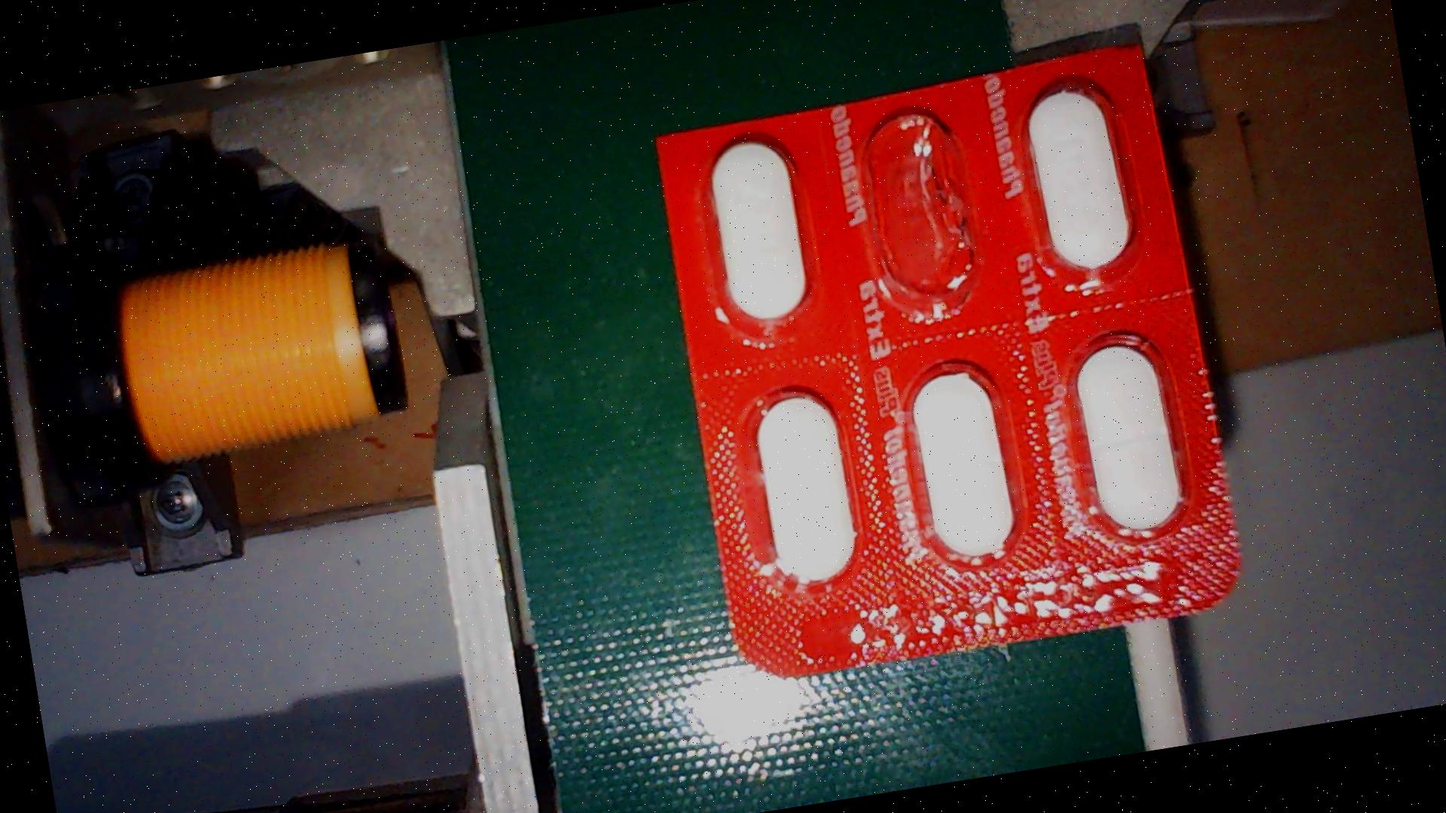Empty: (849, 99, 997, 330)
Full: (726, 379, 875, 596), (895, 358, 1044, 575), (1009, 69, 1158, 286), (685, 127, 834, 344), (1056, 327, 1204, 544)
